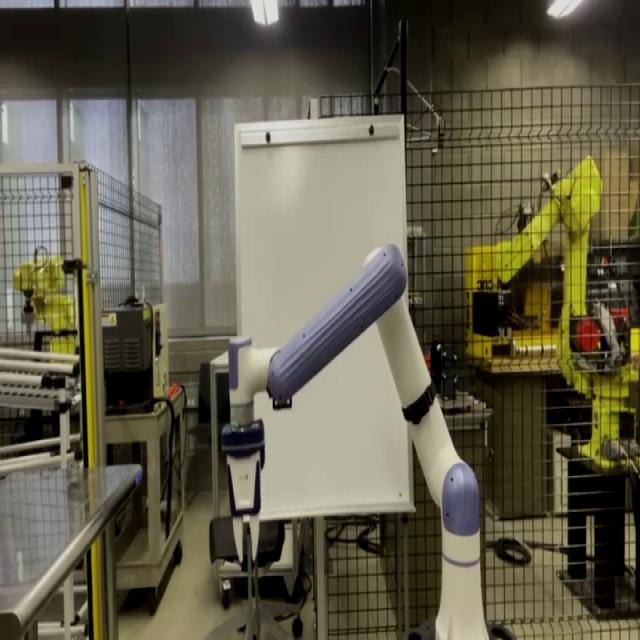robot: (209, 240, 517, 639)
